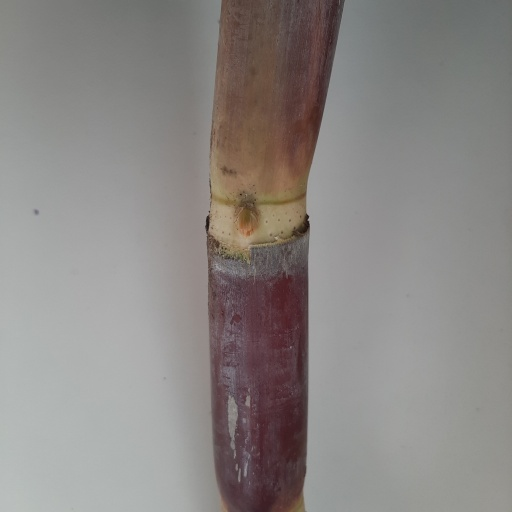Bud: (233, 203, 260, 237)
